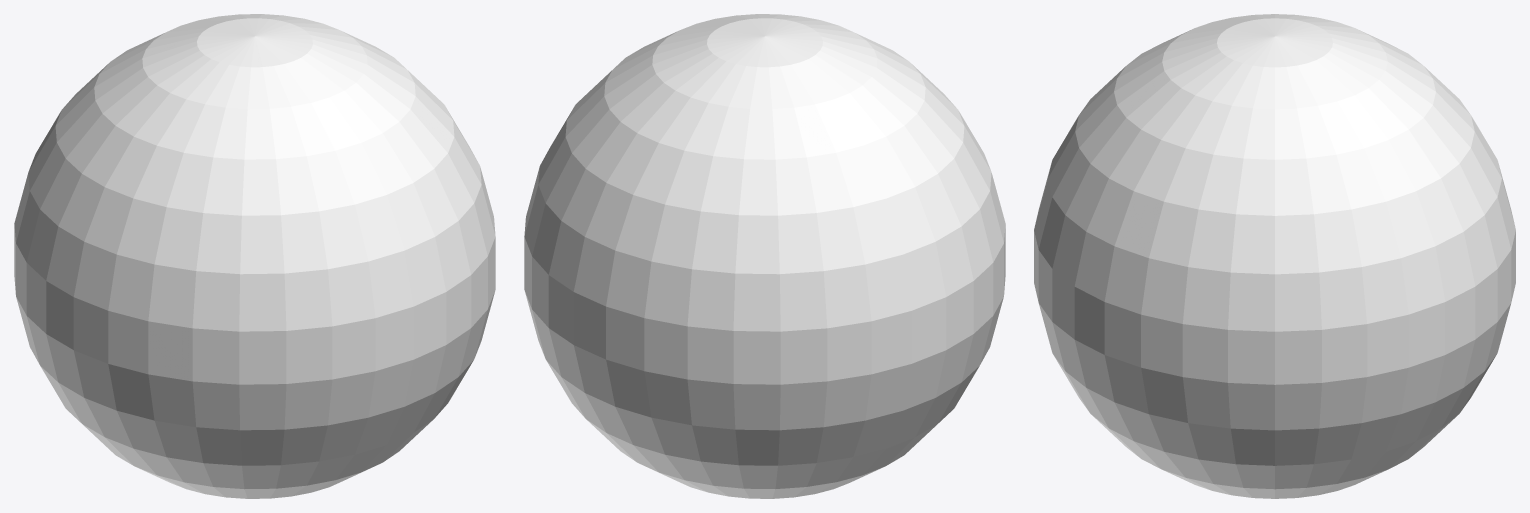
Rendered from ceiling_light_bulb.gltf.
The picture shows the model from 3 angles, left to right: view 1: azimuth 30°, elevation 25°; view 2: azimuth 150°, elevation 25°; view 3: azimuth 270°, elevation 25°; orthographic projection.
Visible parts, largest first — view 1: Ceiling Light Bulb.001; view 2: Ceiling Light Bulb.001; view 3: Ceiling Light Bulb.001.
Part boxes in pixels (x1,y1,x2,y2): Ceiling Light Bulb.001: [14, 14, 495, 498]; Ceiling Light Bulb.001: [524, 14, 1005, 498]; Ceiling Light Bulb.001: [1034, 14, 1515, 498].
Bounding box in the file's own units: 0.8824 × 0.8889 × 0.8824.
1 material, 1 textured.
